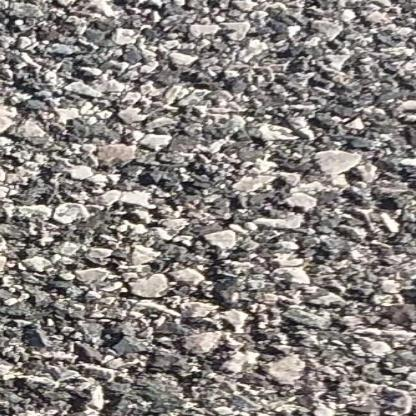Cracks: (0, 88, 416, 162)
